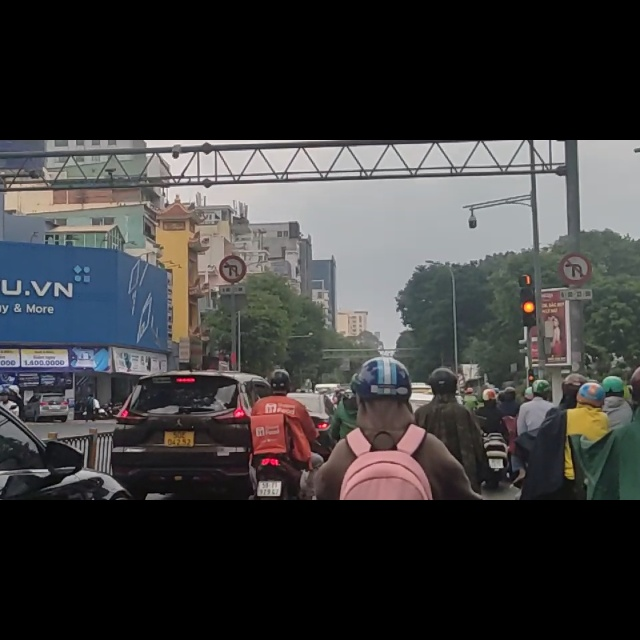bien_cam: (220, 206, 247, 252), (563, 205, 589, 252)
